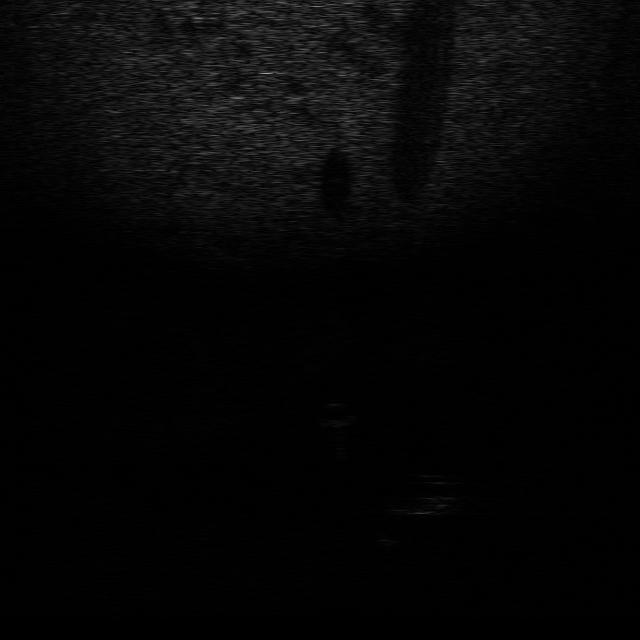ball: (315, 400, 359, 428)
metal bucket: (371, 522, 410, 551)
tyre: (392, 471, 466, 517)
